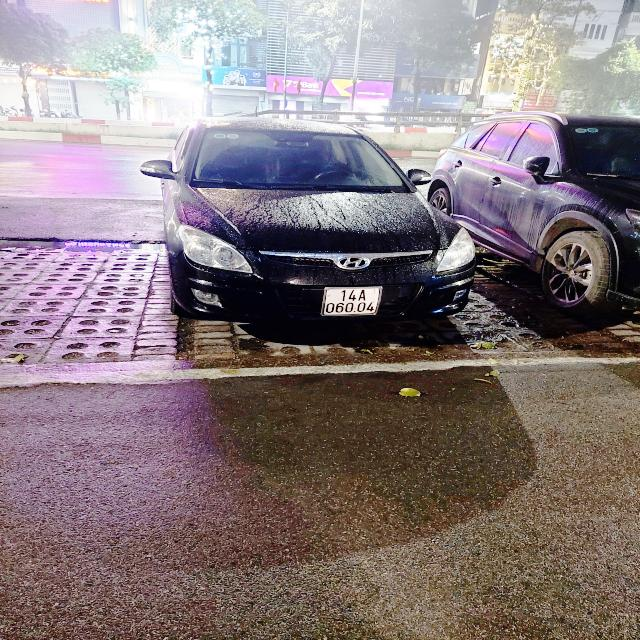license_plate: (319, 285, 389, 320)
